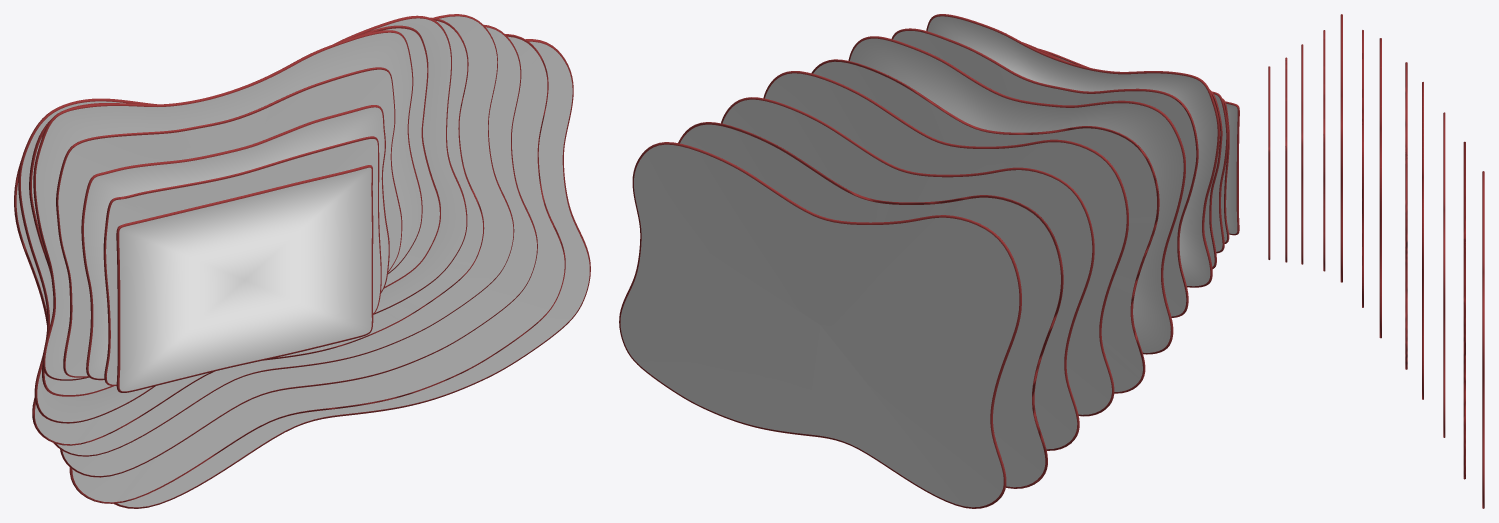
The model's file is Frame4.glb.
3 views of the same model, side by side, from view 1: azimuth 30°, elevation 25°; view 2: azimuth 150°, elevation 25°; view 3: azimuth 270°, elevation 25° (orthographic). The views are drawn at different scales.
Parts seen in each view (by area): view 1: pasted__pasted__pasted__pasted__pasted__Outline12.005; view 2: pasted__pasted__pasted__pasted__pasted__Outline12.005; view 3: pasted__pasted__pasted__pasted__pasted__Outline12.005.
Part boxes in pixels (box(x1,y1,x2,y2)): pasted__pasted__pasted__pasted__pasted__Outline12.005: box(14, 14, 590, 508); pasted__pasted__pasted__pasted__pasted__Outline12.005: box(619, 14, 1239, 508); pasted__pasted__pasted__pasted__pasted__Outline12.005: box(1268, 14, 1484, 508).
Size of the model in its own units: 0.6004 by 0.4532 by 0.2536.
